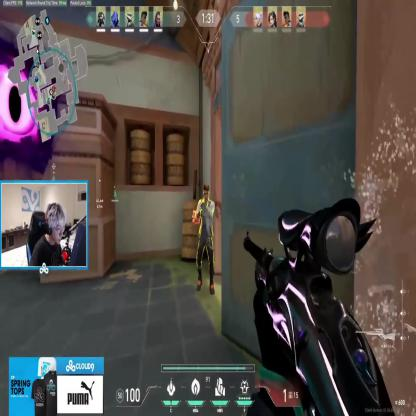enemy: (195, 184, 216, 294)
enemy_head: (204, 186, 210, 200)
